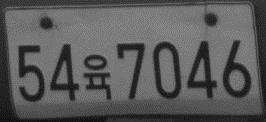0: (151, 40, 182, 100)
4: (47, 42, 80, 102), (186, 39, 217, 99)
5: (16, 43, 46, 102)
6: (221, 38, 252, 97)
7: (115, 41, 146, 101)
육: (81, 52, 113, 101)
